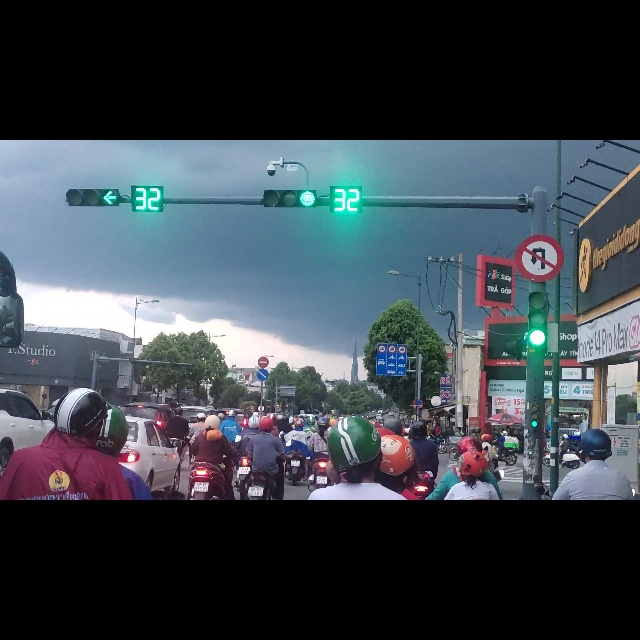bien_hieu_lenh: (515, 167, 563, 250), (376, 359, 408, 418), (257, 407, 269, 428), (258, 385, 269, 406)
